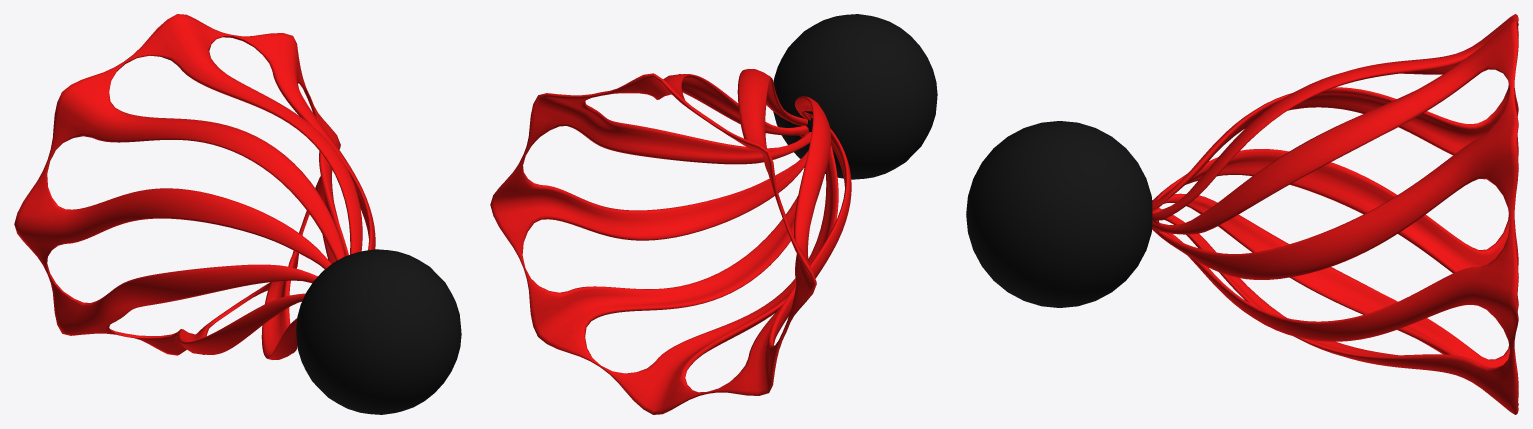
The model's file is symbol_mandala_eye.fbx.
3 views of the same model, side by side, from view 1: azimuth 30°, elevation 25°; view 2: azimuth 150°, elevation 25°; view 3: azimuth 270°, elevation 25° (orthographic). The views are drawn at different scales.
Visible parts, largest first — view 1: Sphere066; view 2: Sphere066; view 3: Sphere066.
Boxes of the visible parts, left/top/right/bottom form: Sphere066: left=14, top=14, right=461, bottom=414; Sphere066: left=490, top=14, right=937, bottom=414; Sphere066: left=966, top=14, right=1518, bottom=414.
Bounding box in the file's own units: 3075 × 3075 × 3988.
